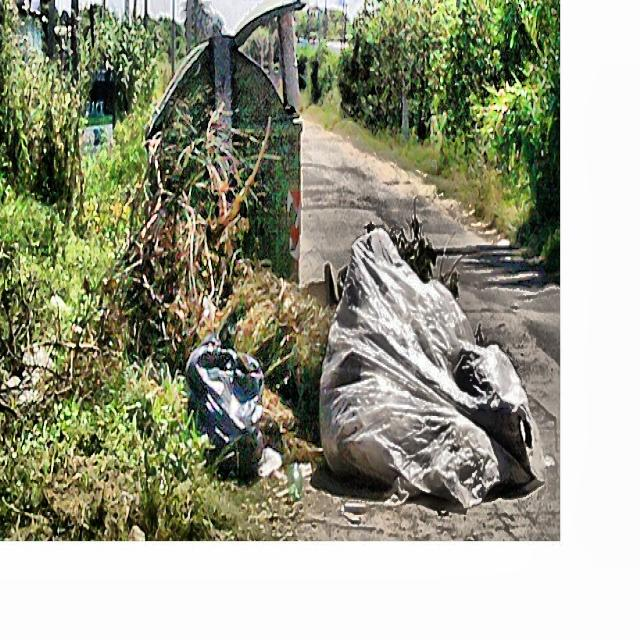garbage: (305, 234, 533, 499), (188, 330, 284, 495)
